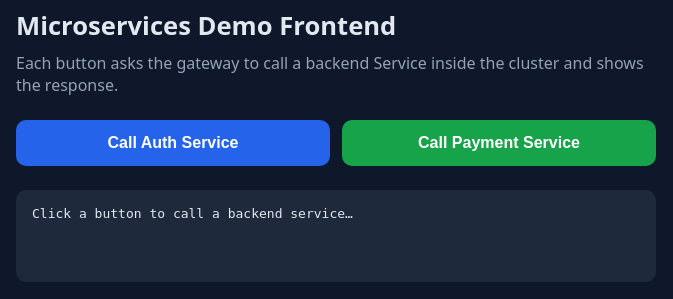
Scenario: App › renders an error response from the backend
This screenshot has width=673, height=299.
Click the button "Call Payment Service".
click(499, 143)  # box [342,120,656,166]
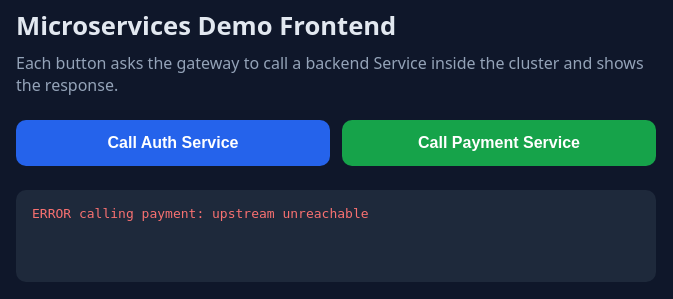
Expected: the text "ERROR calling payment: upstream unreachable" is shown, [32,206,369,221]
